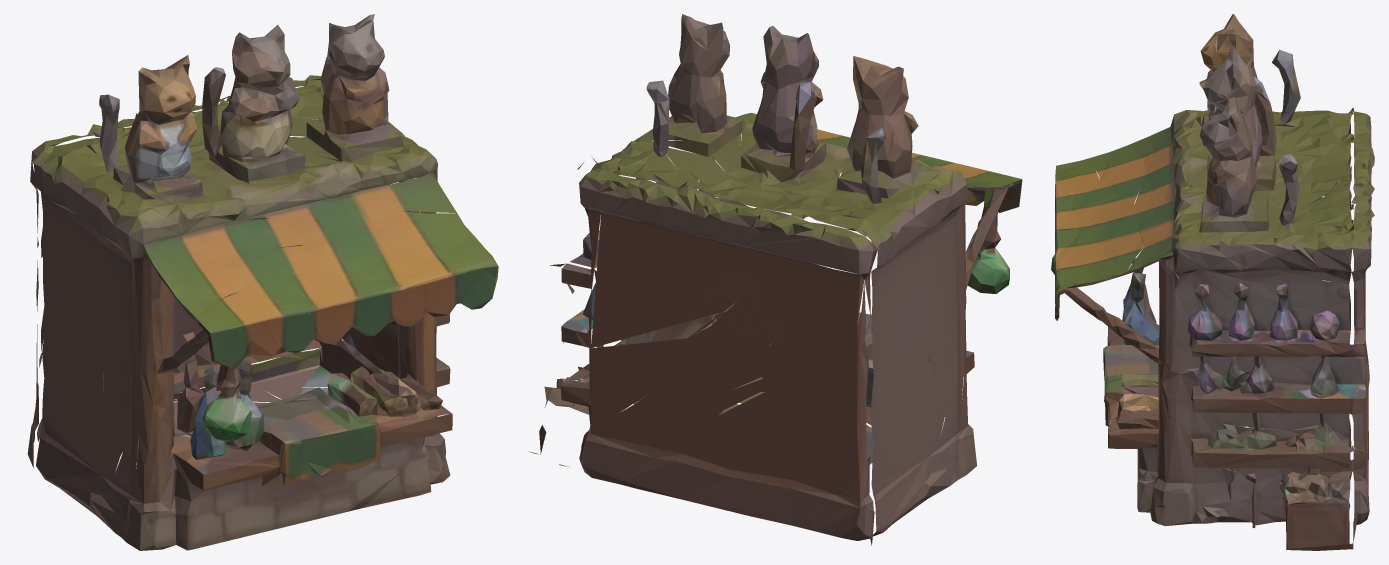
File: shop_three_cats.glb
The picture shows the model from 3 angles, left to right: view 1: azimuth 30°, elevation 25°; view 2: azimuth 150°, elevation 25°; view 3: azimuth 270°, elevation 25°; orthographic projection. The views are drawn at different scales.
Visible parts, largest first — view 1: geometry_0; view 2: geometry_0; view 3: geometry_0.
Part boxes in pixels (<box>): geometry_0: <box>27,14,498,550</box>; geometry_0: <box>529,14,1022,545</box>; geometry_0: <box>1051,14,1374,550</box>.
Bounding box in the file's own units: 2 × 2.27 × 1.61.
1 material, 1 textured.
